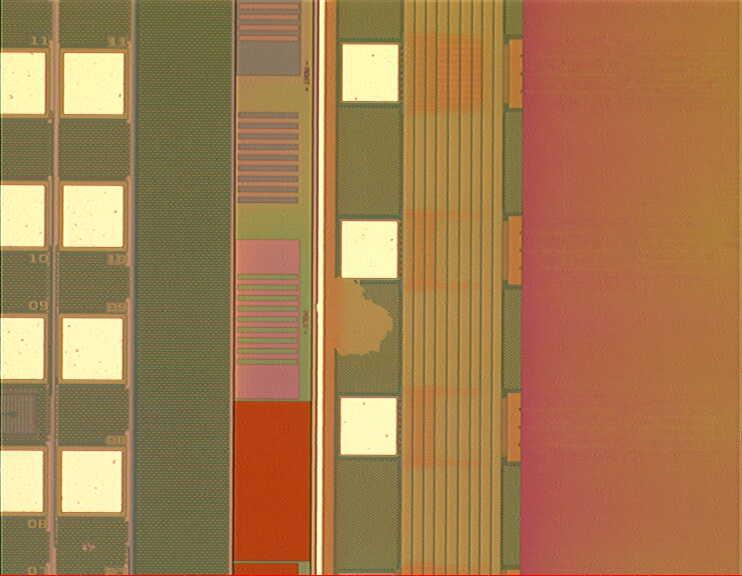BLOCK ETCH: (302, 276, 398, 359)
